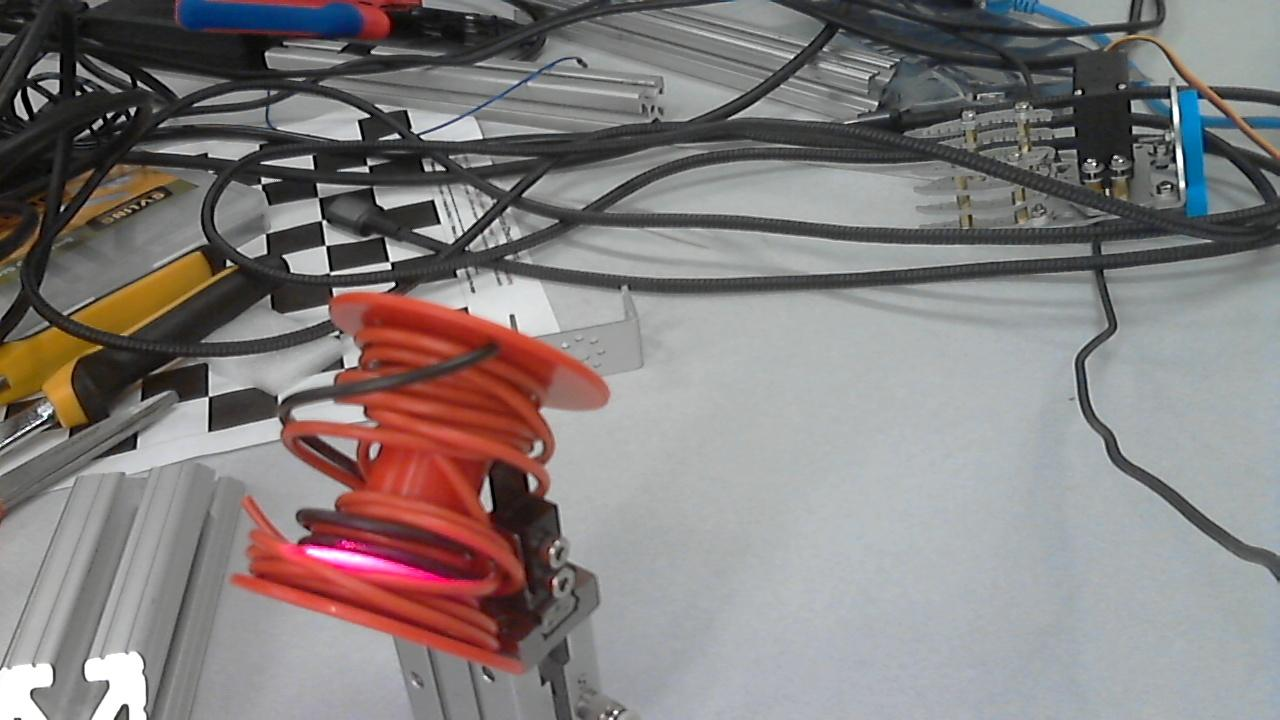Object wire spool - Material rubber - Color oranges - Pdfname ZryFz3DBSiO8: (303, 525, 468, 599)
